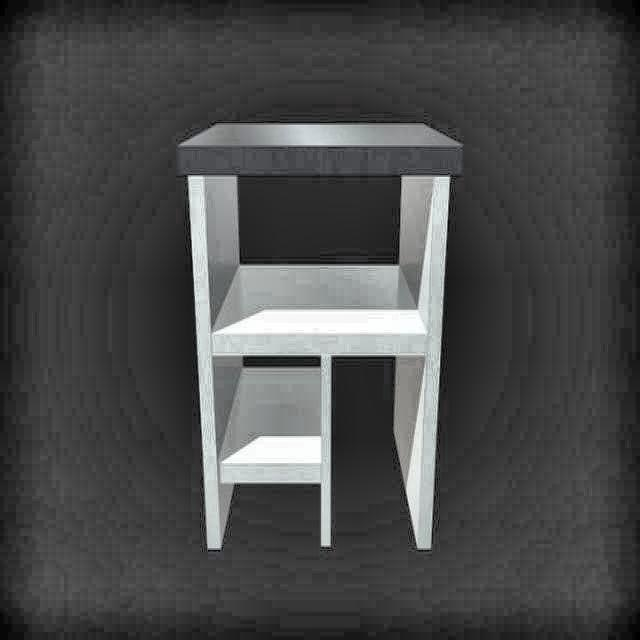mesa: (168, 119, 463, 554)
